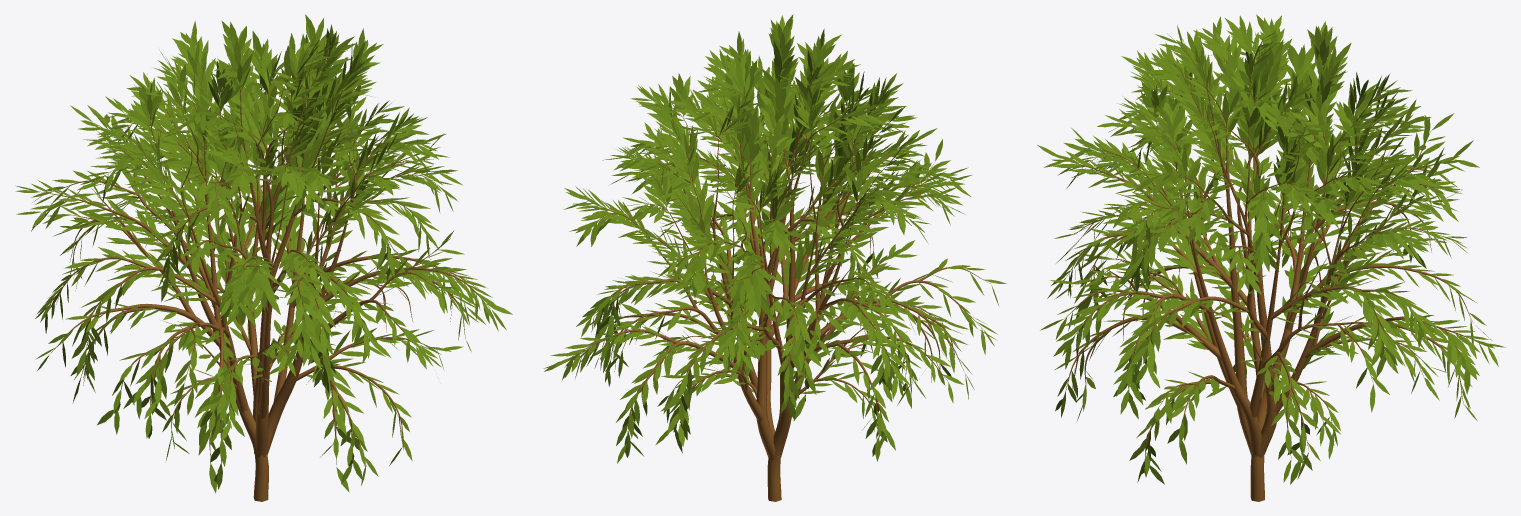
Rendered from tree.gltf.
3 views of the same model, side by side, from view 1: azimuth 30°, elevation 25°; view 2: azimuth 150°, elevation 25°; view 3: azimuth 270°, elevation 25° (orthographic). The views are drawn at different scales.
Parts seen in each view (by area): view 1: leaves, tree; view 2: leaves, tree; view 3: leaves, tree.
Part boxes in pixels (<box>): leaves: <box>15,14,512,493</box>; tree: <box>40,52,490,501</box>; leaves: <box>543,14,1006,463</box>; tree: <box>565,55,990,501</box>; leaves: <box>1037,14,1505,484</box>; tree: <box>1063,38,1474,501</box>.
Bounding box in the file's own units: 5.78 × 6.82 × 6.05.
